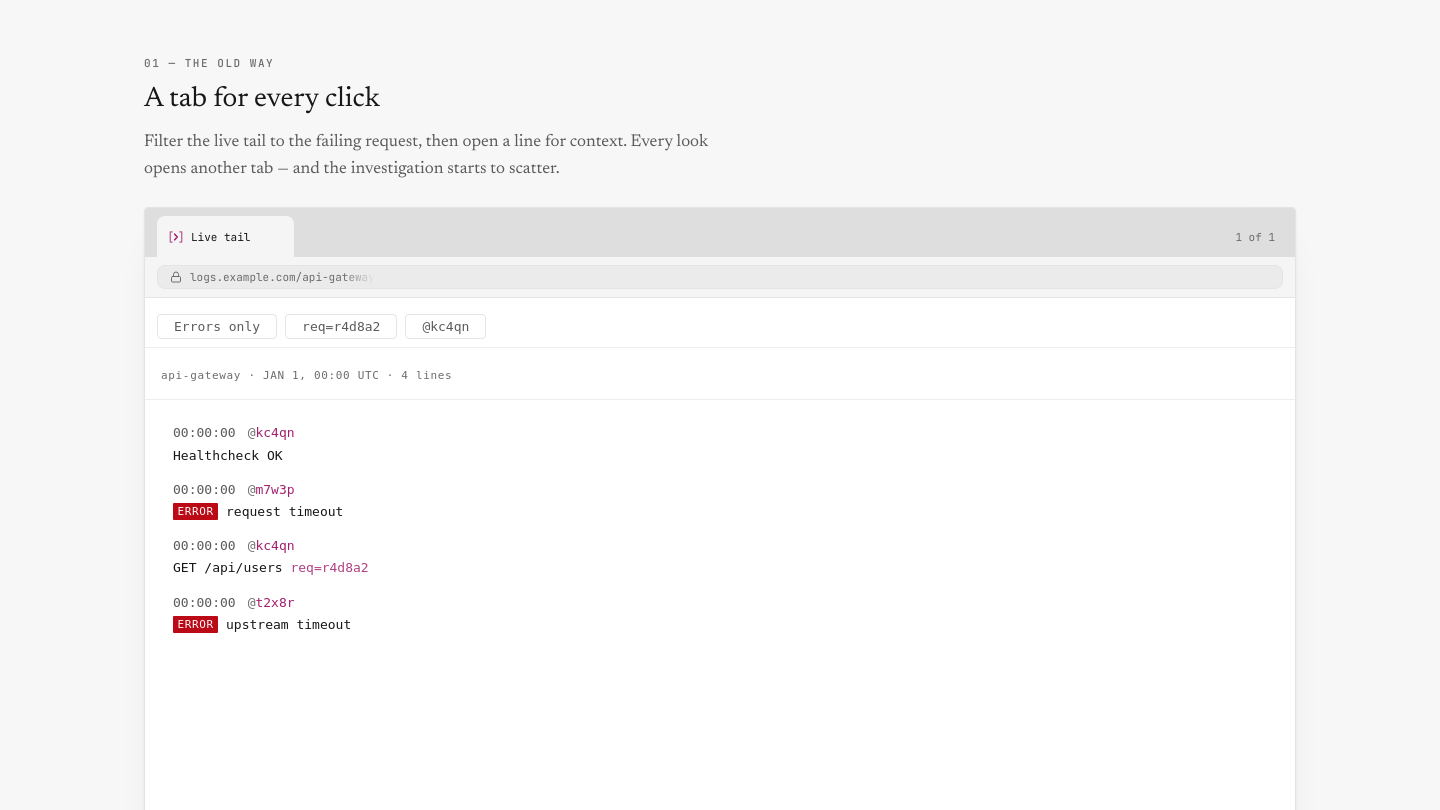
Test: Investigation — act one › opens a context view in a new tab instead of expanding in place
The width and height of the screenshot is (1440, 810).
Step 1. Click the button "Errors only" → (217, 327), box 157,314 -> 277,339
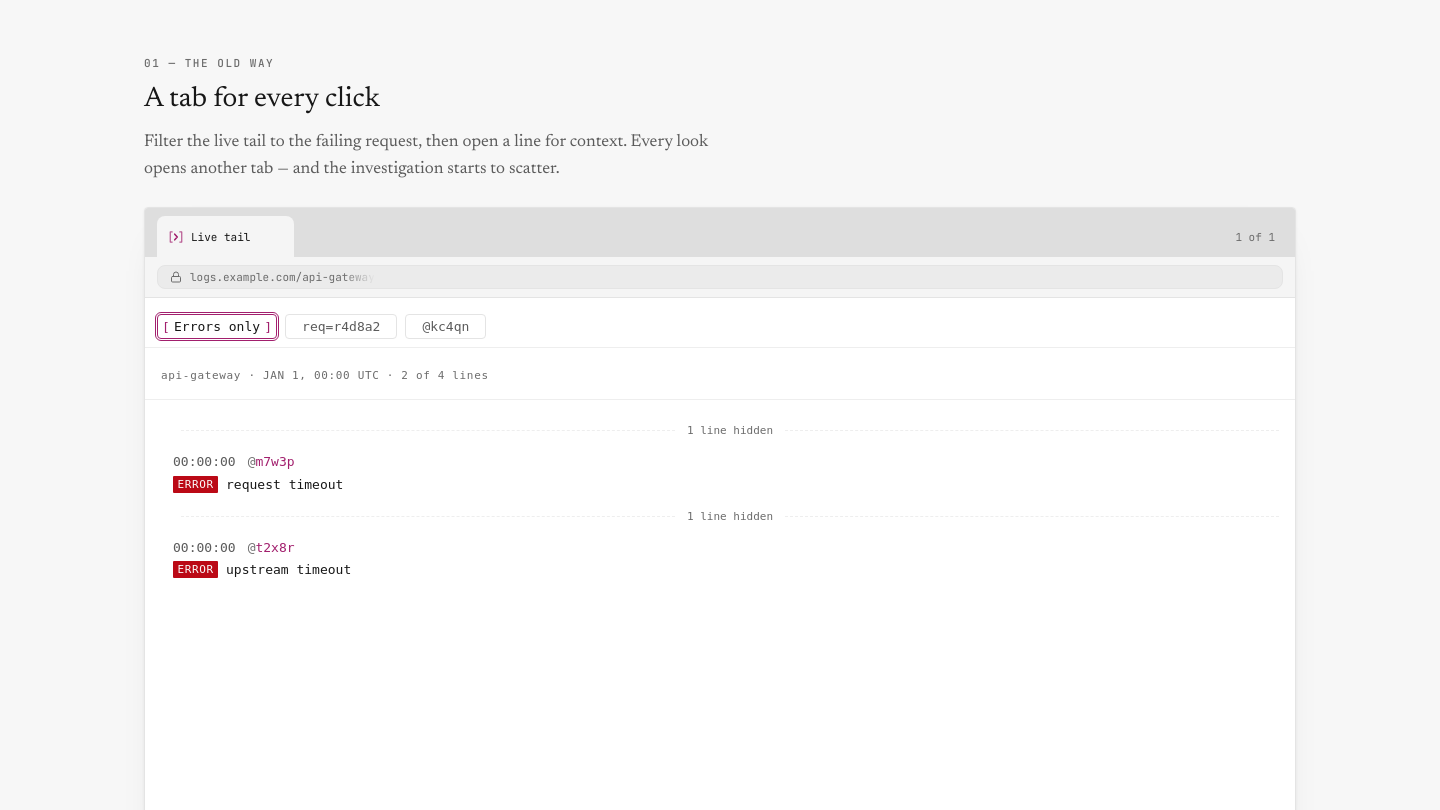
Step 2. Click the text "request timeout" → (285, 484), box 226,477 -> 343,492
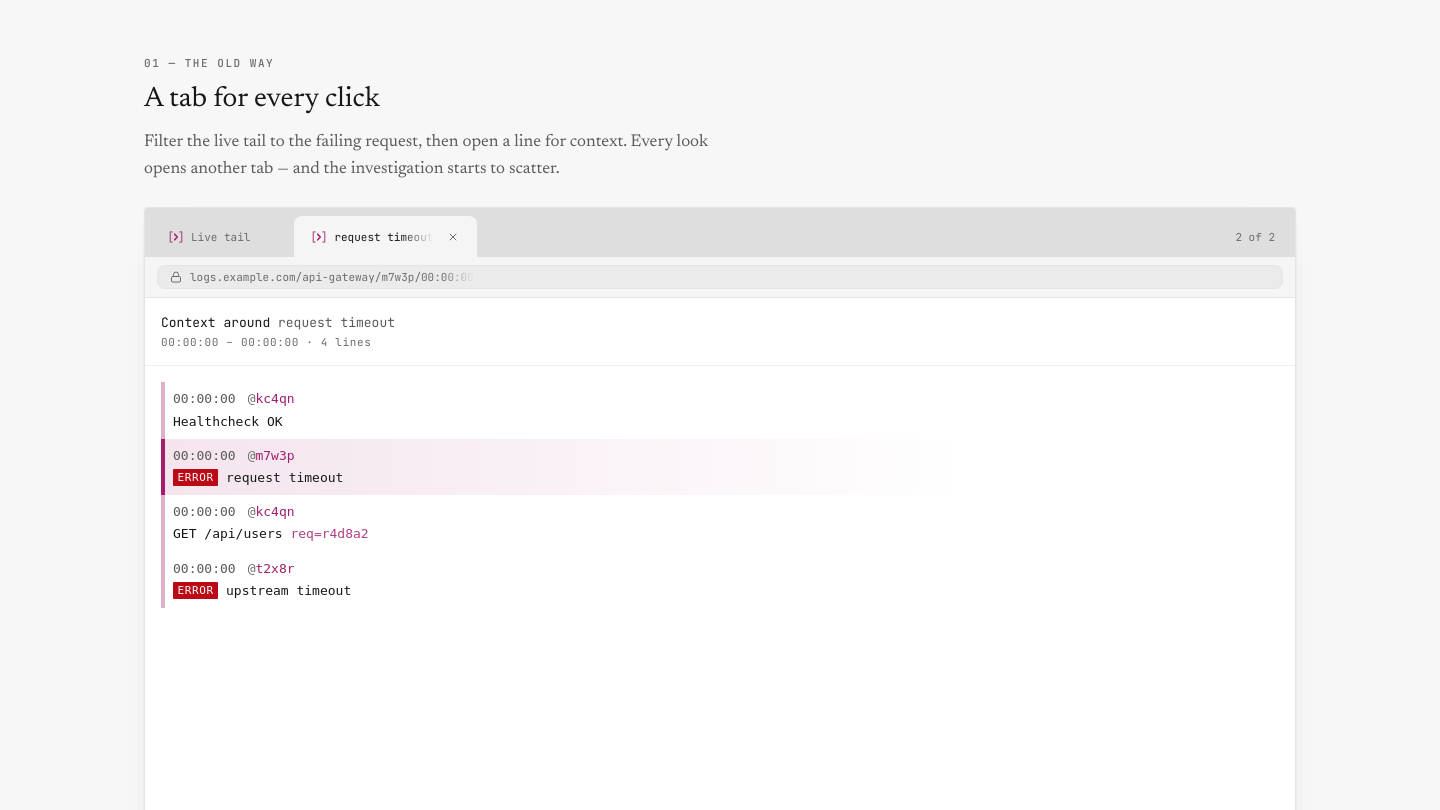
Expected: the tab with aria-label "context slice" is shown, 306,229 -> 433,245
